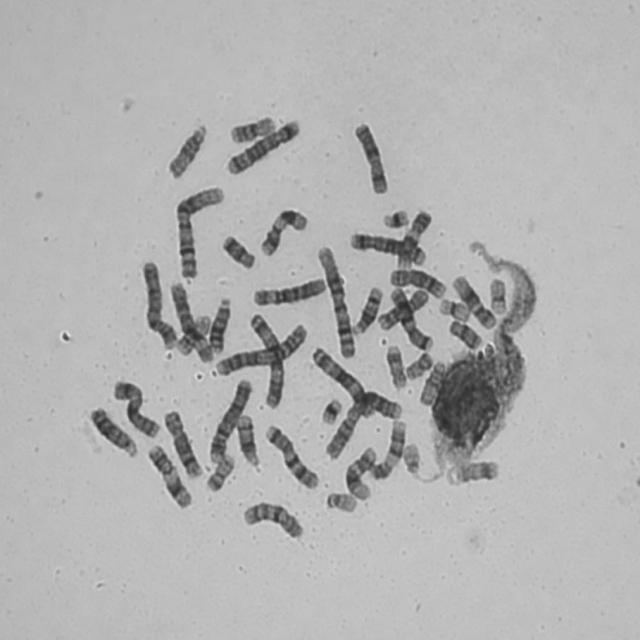A1: (172, 182, 227, 282), (313, 242, 357, 360)
A2: (322, 387, 404, 461), (212, 318, 309, 378)
A3: (308, 342, 377, 420), (246, 308, 285, 411)
B4: (206, 374, 253, 465), (137, 256, 178, 351)
B5: (223, 116, 302, 178), (346, 228, 427, 268)
C10: (238, 498, 306, 541), (375, 285, 430, 332)
C11: (143, 441, 194, 511), (257, 204, 309, 258)
C12: (448, 271, 498, 330), (342, 442, 378, 502)
C6: (166, 277, 216, 365), (249, 274, 327, 308)
C7: (261, 422, 321, 492), (387, 284, 435, 353)
C8: (160, 406, 204, 480), (385, 264, 447, 300)
C9: (364, 416, 408, 482), (394, 207, 434, 270)
D13: (85, 403, 139, 460), (206, 294, 233, 356)
D14: (350, 283, 384, 337), (234, 411, 262, 468)
D15: (163, 120, 209, 182), (416, 357, 448, 407)
E16: (172, 310, 214, 357), (226, 112, 277, 146)
E17: (442, 456, 501, 488), (383, 342, 408, 390)
E18: (218, 231, 257, 271), (446, 316, 484, 351)
F19: (435, 296, 472, 324), (486, 274, 508, 316)
F20: (202, 450, 236, 494), (402, 348, 434, 382)
G21: (318, 394, 344, 427), (379, 206, 410, 230)
G22: (399, 438, 423, 479), (322, 489, 359, 514)
X: (108, 375, 162, 440), (350, 118, 390, 196)
